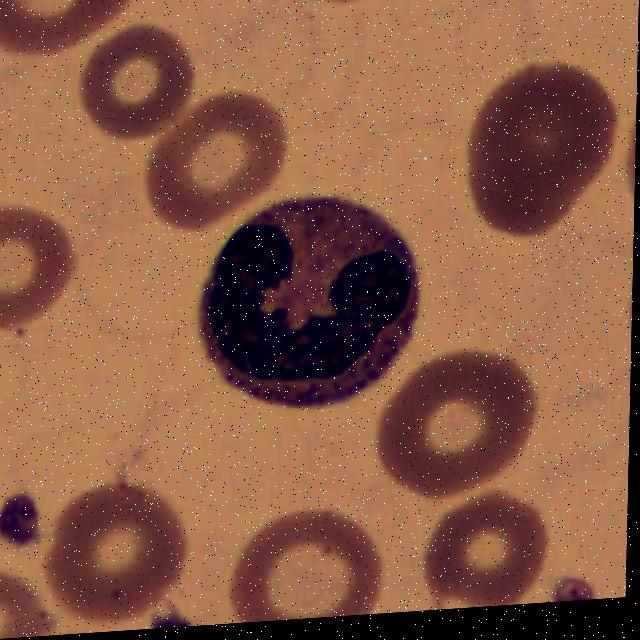neutrophil: (193, 190, 430, 416)
platelets: (0, 488, 45, 553), (543, 564, 601, 603), (136, 604, 194, 630)
rbc: (470, 63, 612, 240), (53, 480, 190, 630), (380, 354, 526, 490), (228, 502, 380, 624), (152, 101, 288, 224), (422, 491, 543, 611), (79, 33, 197, 135), (0, 195, 66, 328), (0, 0, 129, 53), (0, 571, 39, 640), (622, 120, 636, 203), (279, 0, 388, 3)
